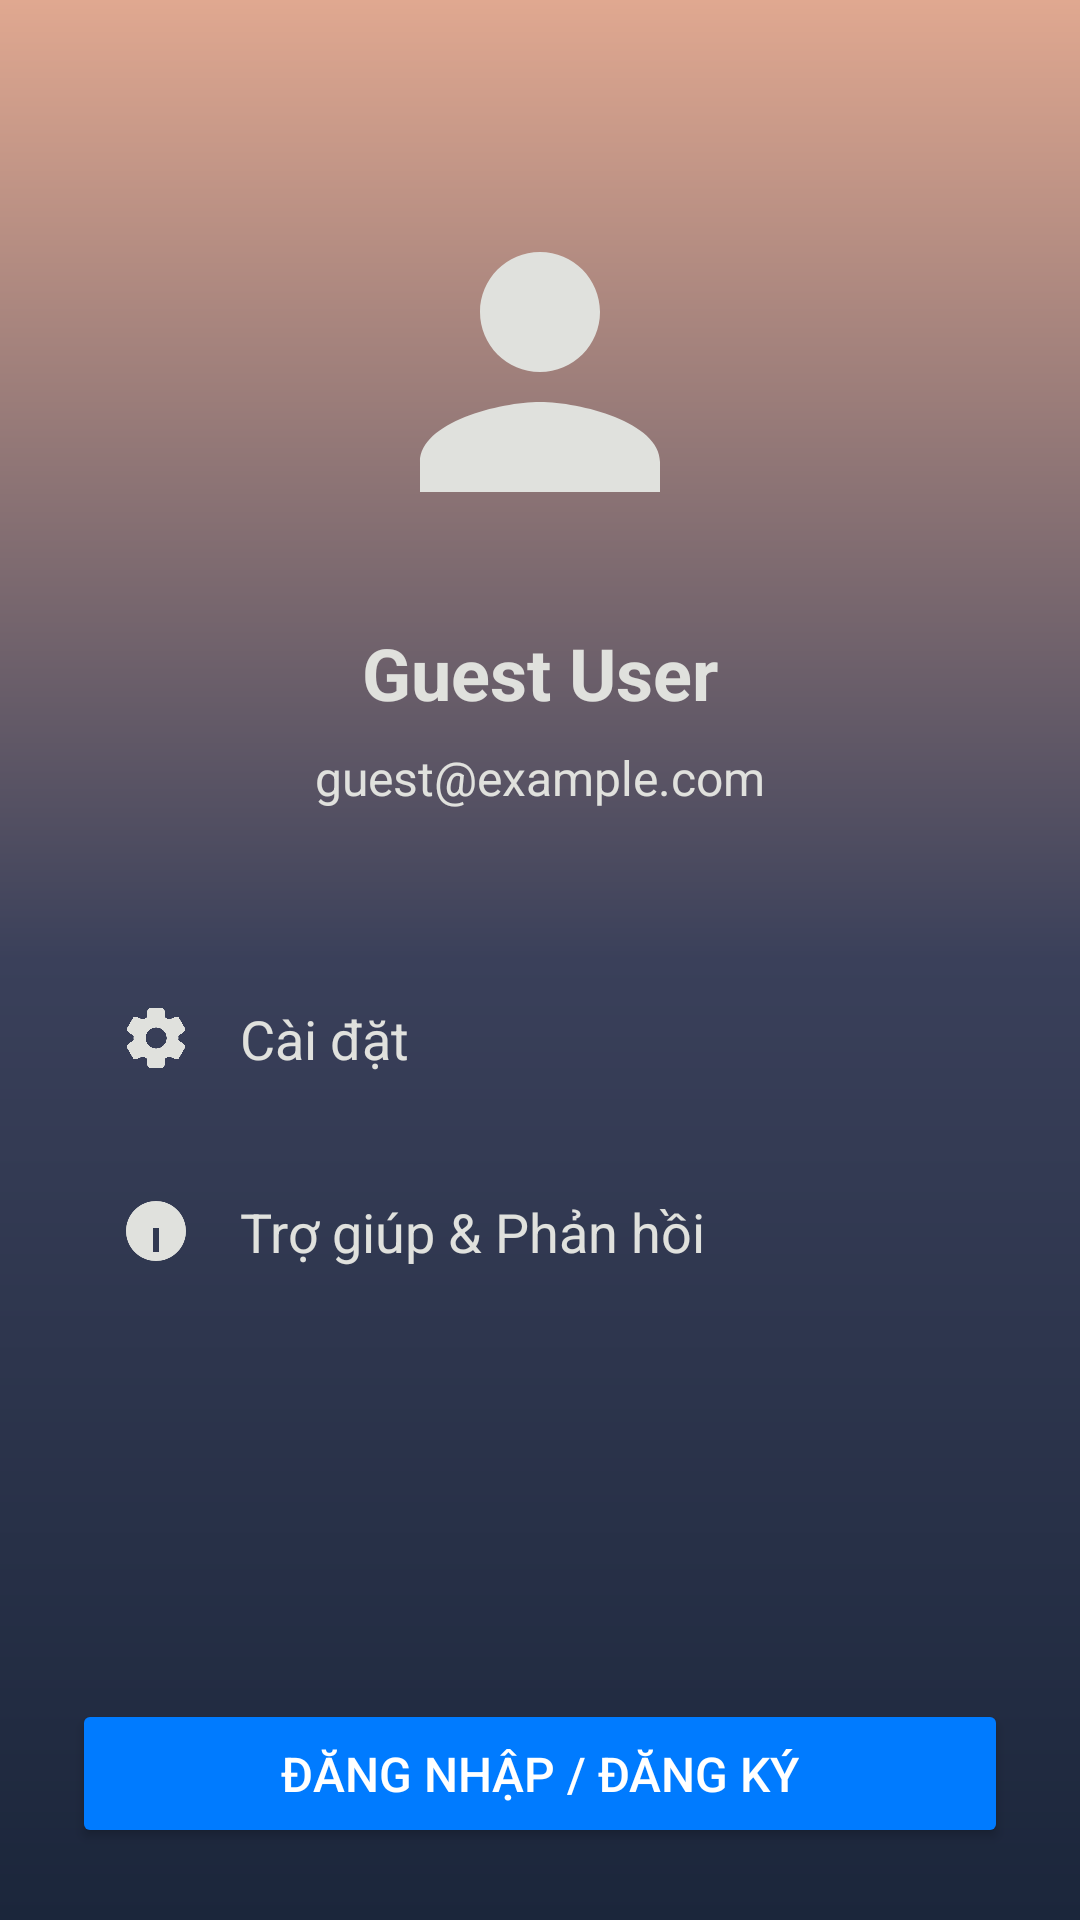

Where to tap for icons on this 1080x1920 app screen, as [x,y]:
help: [156,1231]
settings: [156,1038]
